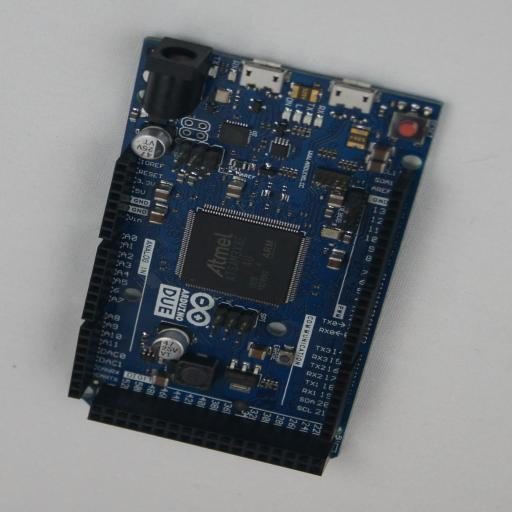Arduino Due: (68, 36, 443, 476)
